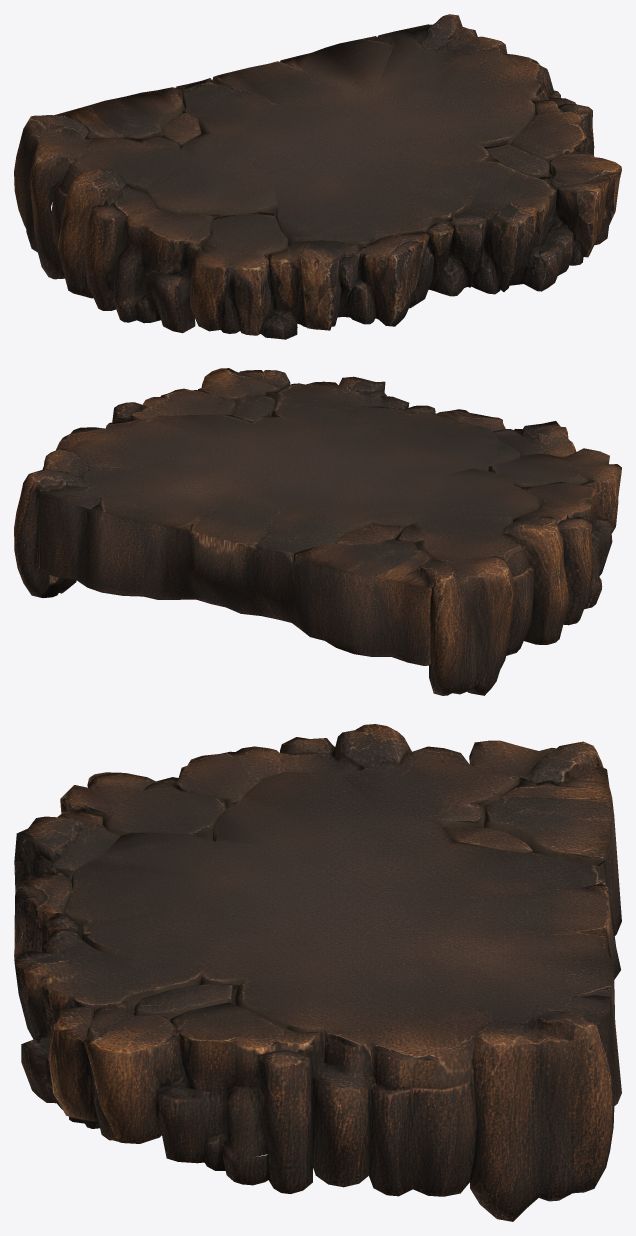
Rendered from stone+circular+platform+3d+model.fbx.
The picture shows the model from 3 angles, top to bottom: view 1: azimuth 30°, elevation 25°; view 2: azimuth 150°, elevation 25°; view 3: azimuth 270°, elevation 25°; orthographic projection. The views are drawn at different scales.
Visible parts, largest first — view 1: tripo_5b238ca1_24ab_406f_b57a_fead2ef1d178; view 2: tripo_5b238ca1_24ab_406f_b57a_fead2ef1d178; view 3: tripo_5b238ca1_24ab_406f_b57a_fead2ef1d178.
Part boxes in pixels (box(x1,y1,x2,y2)): tripo_5b238ca1_24ab_406f_b57a_fead2ef1d178: box(14, 14, 621, 339); tripo_5b238ca1_24ab_406f_b57a_fead2ef1d178: box(14, 368, 621, 695); tripo_5b238ca1_24ab_406f_b57a_fead2ef1d178: box(14, 724, 621, 1221).
Size of the model in its own units: 0.9995 by 0.2651 by 0.7524.
Materials: 1 (1 with a texture image).
